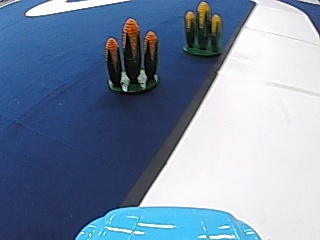corn: (104, 17, 163, 94), (181, 1, 224, 58)
